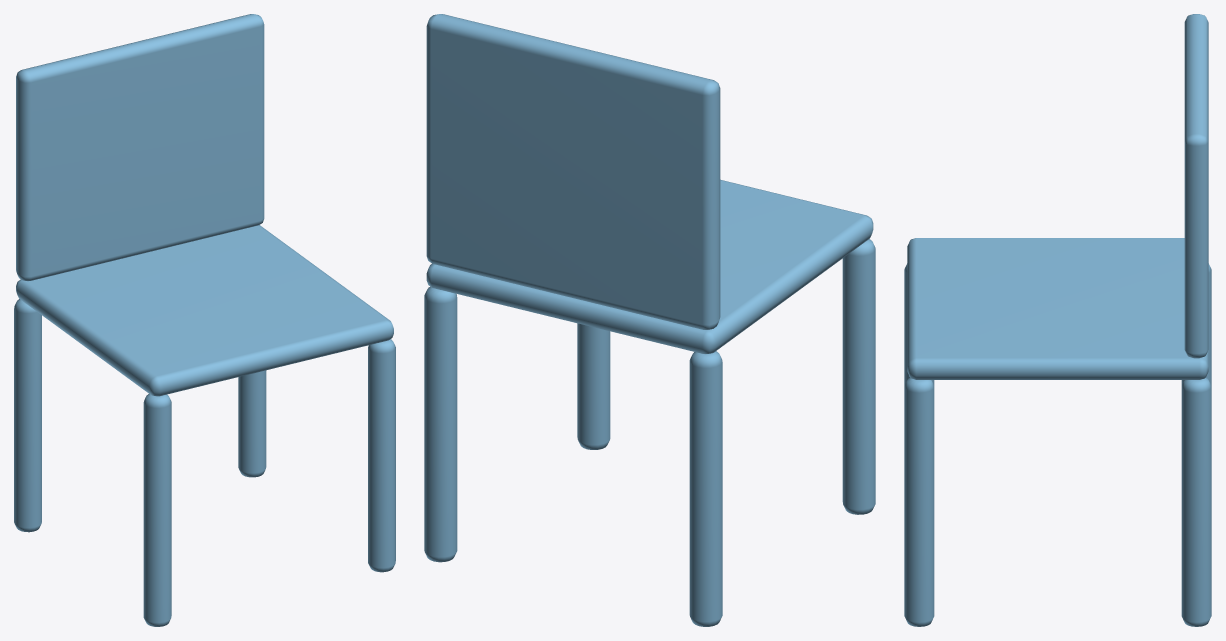
The model's file is dining-chair.glb.
3 renders of one model, left to right at view 1: azimuth 30°, elevation 25°; view 2: azimuth 150°, elevation 25°; view 3: azimuth 270°, elevation 25°, orthographic. The views are drawn at different scales.
Parts seen in each view (by area): view 1: Chair; view 2: Chair; view 3: Chair.
Part boxes in pixels (x1,y1,x2,y2): Chair: (14,14,395,626); Chair: (424,14,875,626); Chair: (904,14,1211,626).
Bounding box in the file's own units: 0.51 × 0.9 × 0.51.
